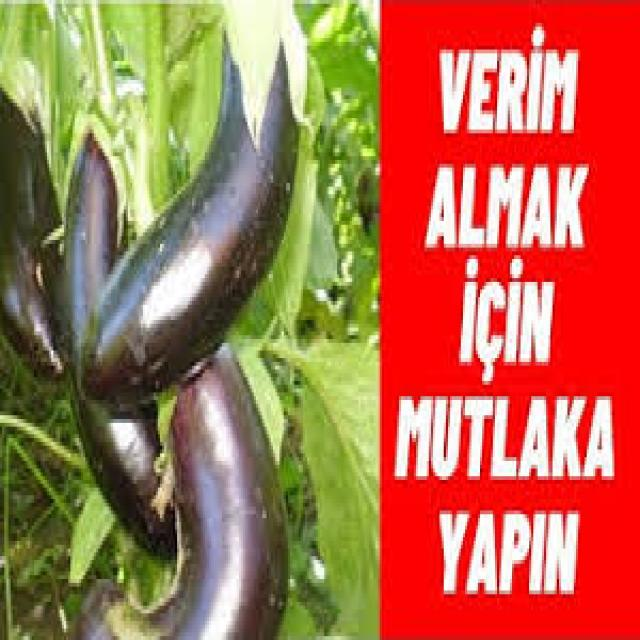eggplant: (62, 114, 177, 549), (145, 351, 286, 628)
